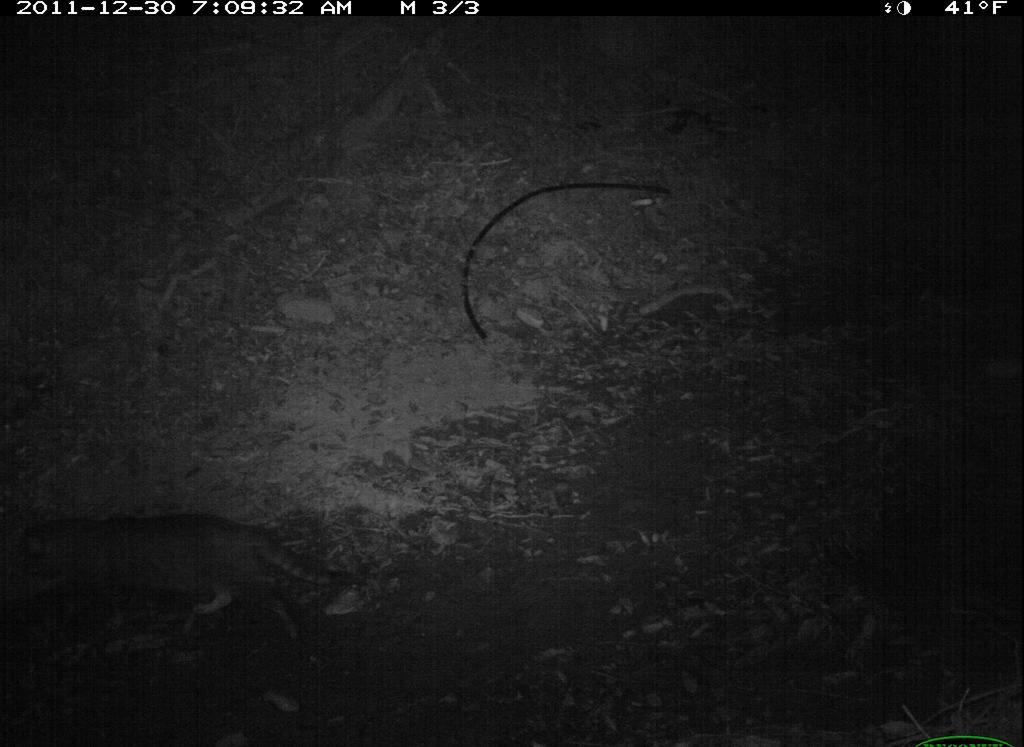cat: (15, 488, 363, 652)
